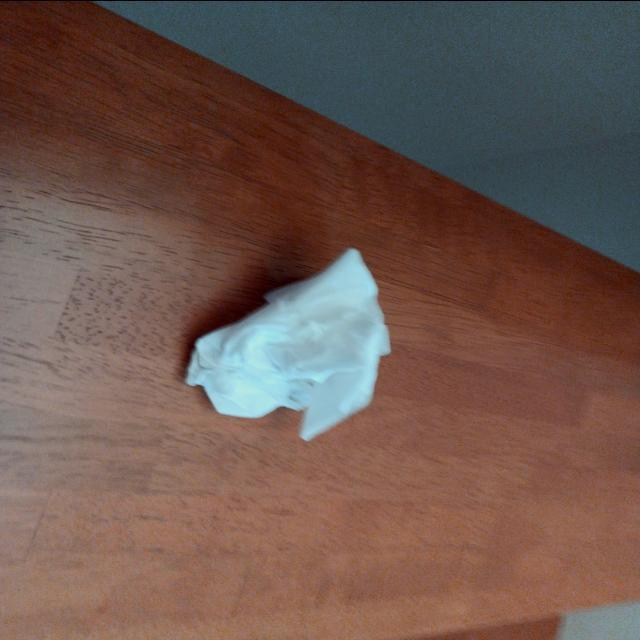Paper: (177, 230, 438, 434)
